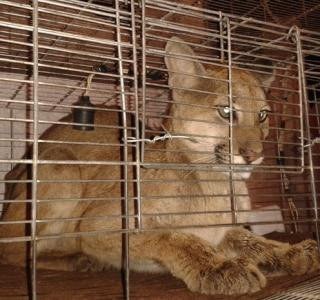OncaParda: (5, 34, 318, 297)
